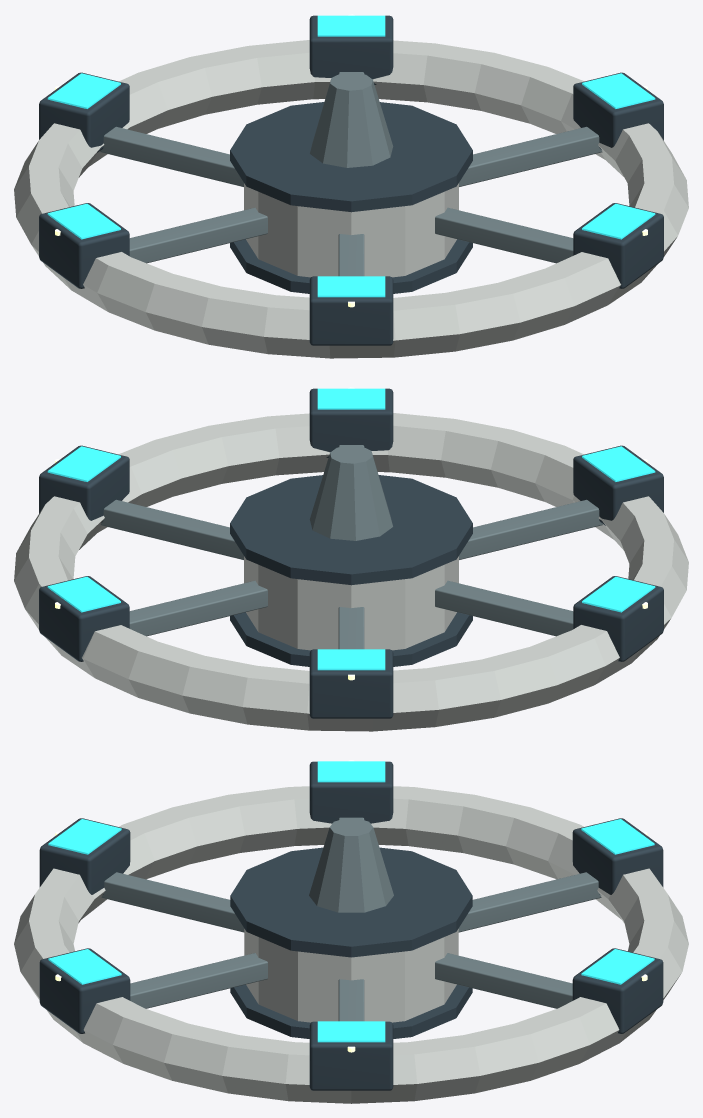
Rendered from station.glb.
The picture shows the model from 3 angles, top to bottom: view 1: azimuth 30°, elevation 25°; view 2: azimuth 150°, elevation 25°; view 3: azimuth 270°, elevation 25°; orthographic projection.
Parts seen in each view (by area): view 1: station; view 2: station; view 3: station.
Boxes of the visible parts, box(x1,y1,x2,y2) form: station: box(14, 14, 688, 358); station: box(14, 387, 688, 731); station: box(14, 760, 688, 1103).
Size of the model in its own units: 34.38 by 13 by 34.
